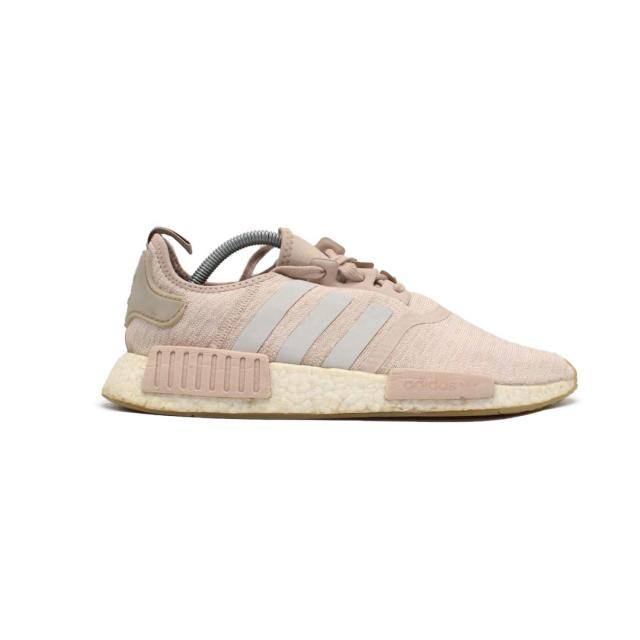heel: (123, 231, 212, 351)
midsole: (105, 346, 579, 420)
uppersole: (209, 231, 571, 386)
